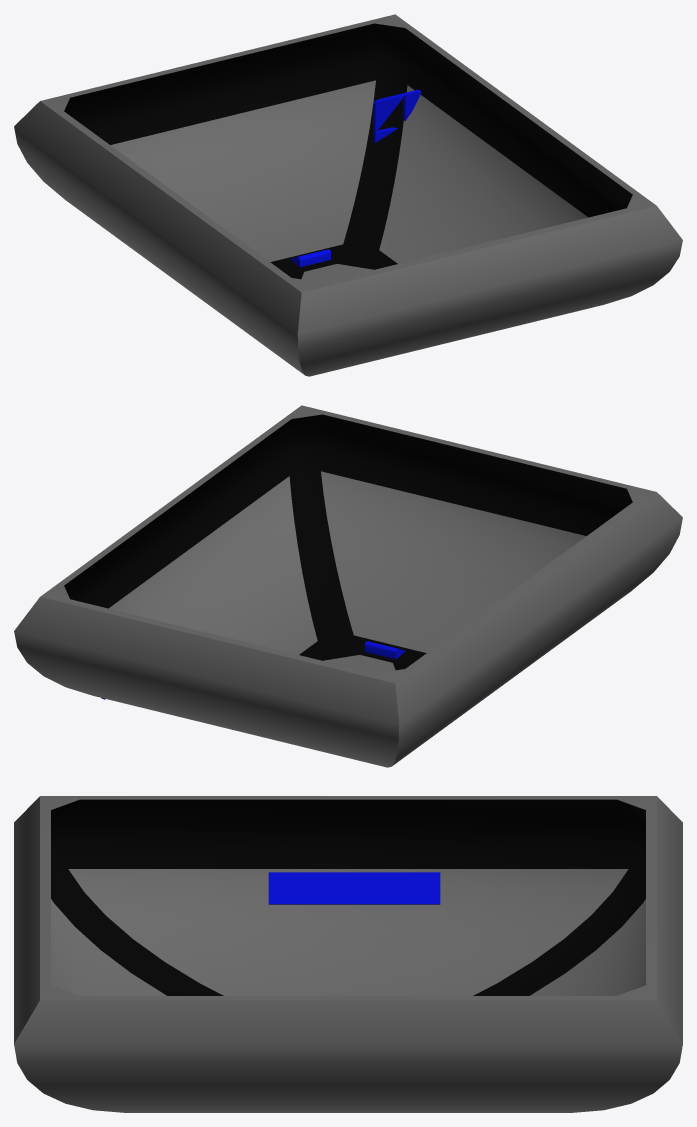
The model's file is Arena (1).fbx.
3 views of the same model, one above another, from view 1: azimuth 30°, elevation 25°; view 2: azimuth 150°, elevation 25°; view 3: azimuth 270°, elevation 25° (orthographic). The views are drawn at different scales.
Parts seen in each view (by area): view 1: Arena, Obstacle; view 2: Arena; view 3: Arena, Obstacle 3.
Boxes of the visible parts, box(x1,y1,x2,y2) form: Arena: box(14, 14, 682, 376); Obstacle: box(373, 90, 421, 142); Arena: box(14, 405, 682, 767); Arena: box(14, 796, 682, 1112); Obstacle 3: box(268, 872, 440, 904).
Bounding box in the file's own units: 21835 × 7629 × 27851.
